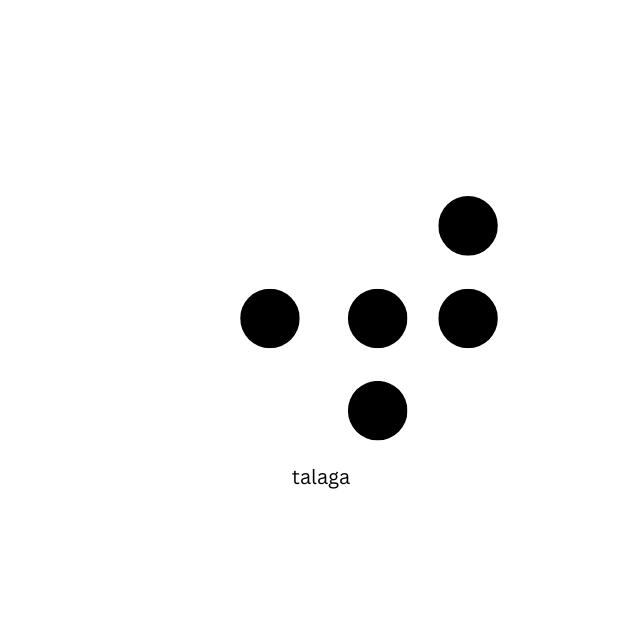dot_5: (147, 191, 302, 441)
two_cell_alphabet_talaga: (347, 193, 502, 443)
